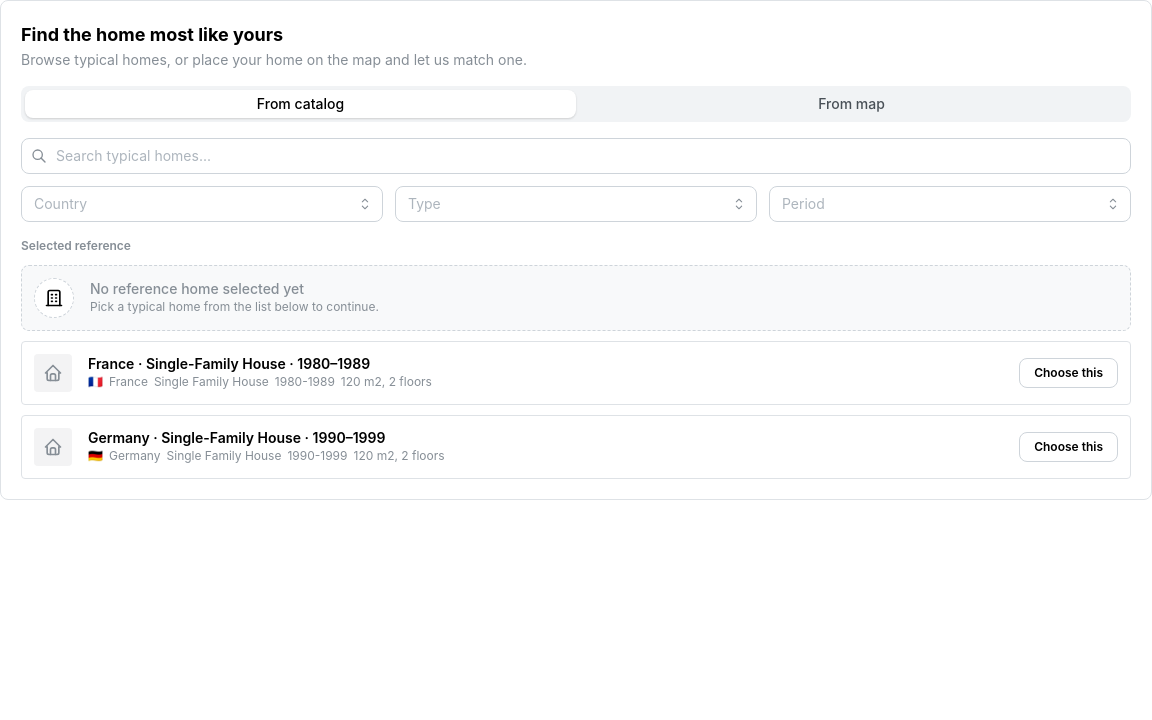
BuildingSelector › keeps the selected catalog building in place and updates the summary bar
Check: the text "No reference home selected yet" is shown, box [90,280,304,297]
Click the button "Choose this" in the row of "France · Single-Family House · 1980–1989" at (1069, 373), box [1019,358,1118,388]
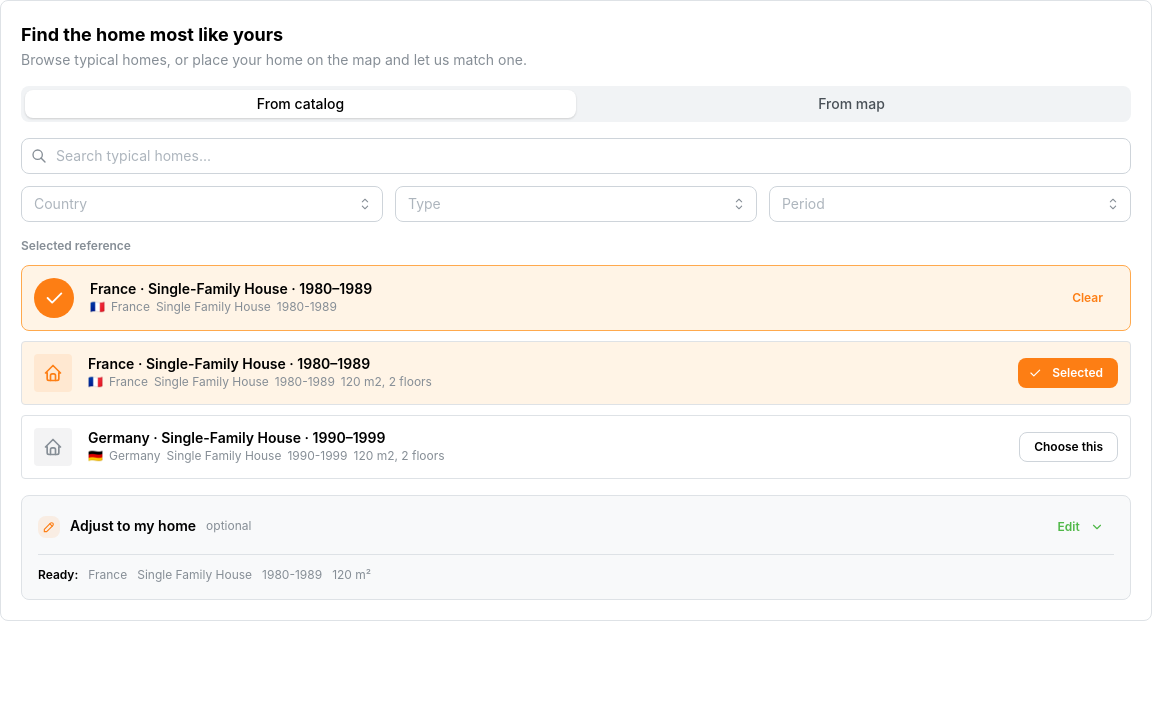
Check: the button "Clear" is shown, box [1057,283,1118,313]
Check: the text "No reference home selected yet" is gone
Check: the button "Selected" is shown, box [1018,358,1118,388]
